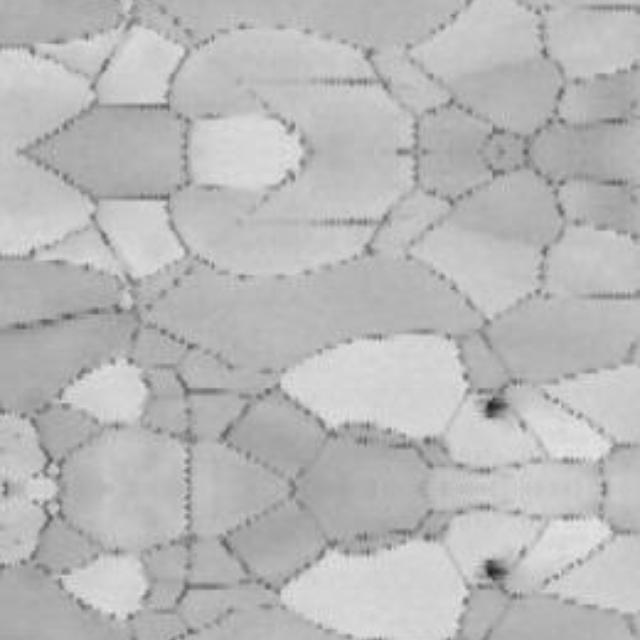good_void: (482, 391, 509, 421), (482, 556, 509, 585)
